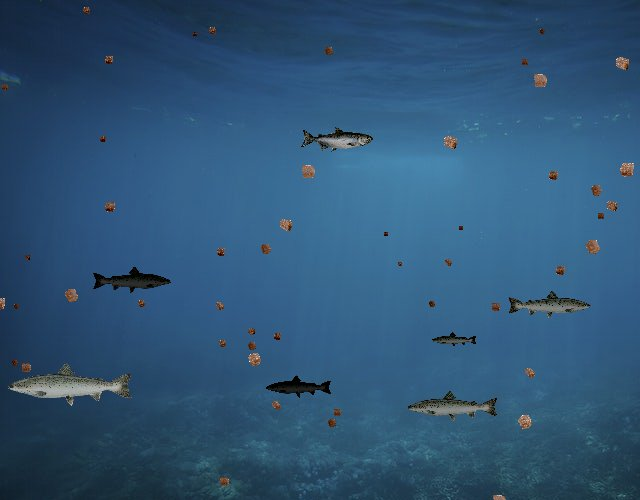Fish: (6, 361, 135, 407), (407, 390, 501, 424), (506, 289, 592, 320), (91, 265, 172, 294), (301, 127, 374, 153), (266, 375, 334, 399), (431, 331, 478, 348)
Pellet: (612, 155, 640, 184), (240, 346, 268, 374), (272, 212, 299, 239), (78, 2, 94, 18), (536, 25, 549, 38), (21, 251, 33, 263)
